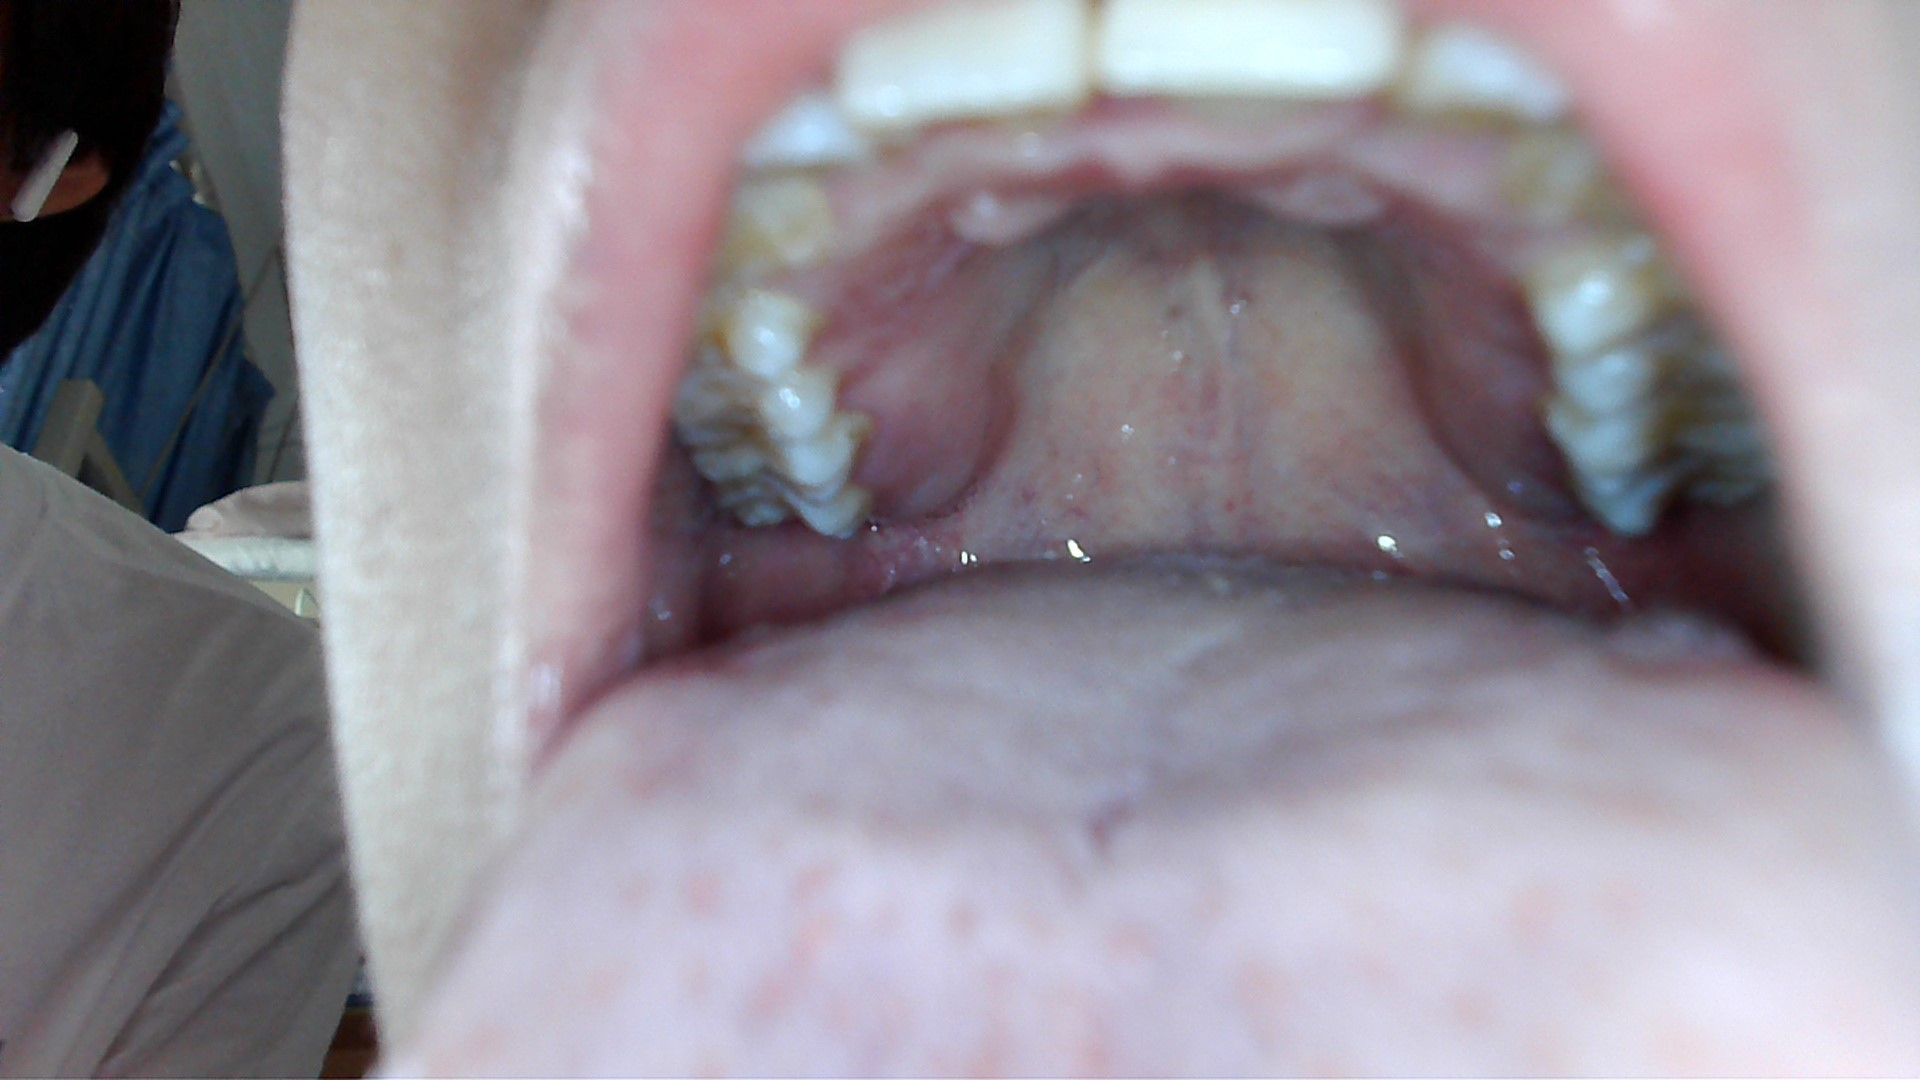throat: (1317, 492, 1474, 604)
